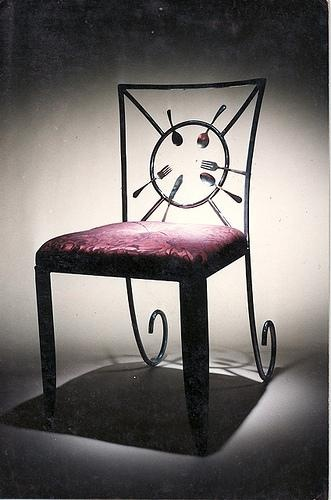obstacle: (35, 79, 276, 454)
